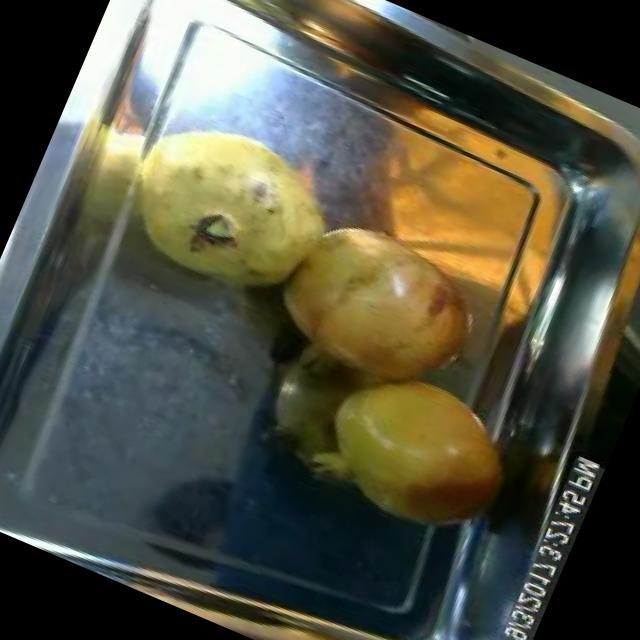fruit: (90, 85, 364, 328), (245, 190, 508, 428), (292, 340, 536, 560)
